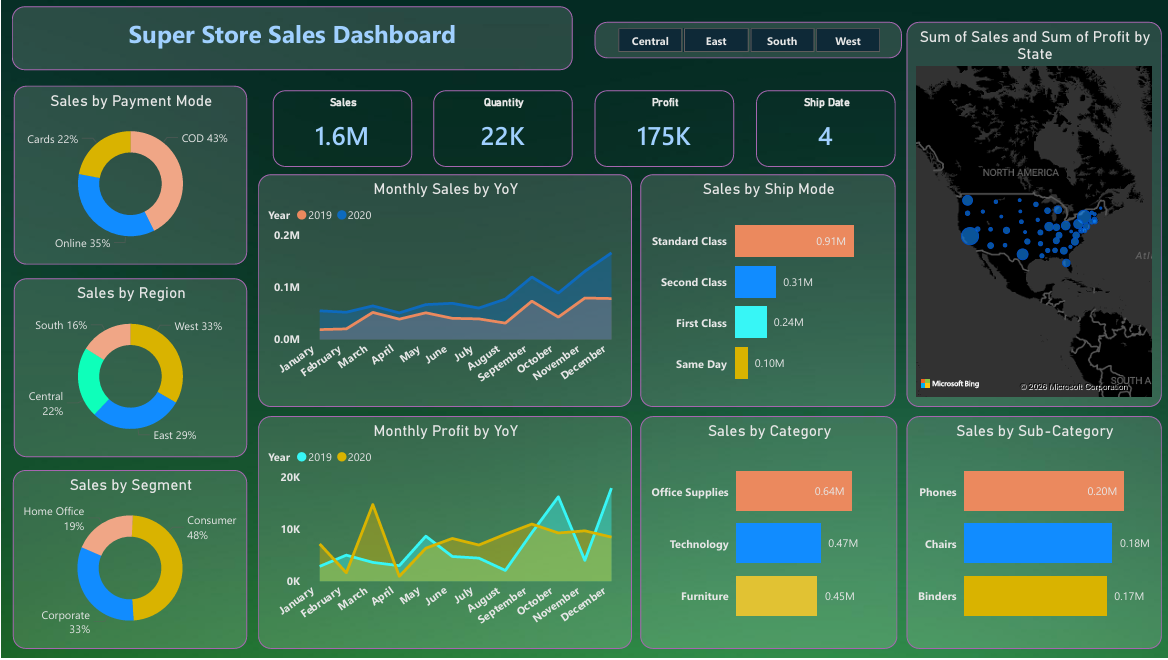

The page's visual inventory and layout, read from the dashboard file:
{"tool":"powerbi","page":{"name":"Page 1","canvas":[1280,720],"ordinal":0},"visuals":[{"type":"clusteredBarChart","title":"Sales by Category","fields":{"Category":["SuperStore_Sales_Dataset (2).Category"],"Y":["Sum(SuperStore_Sales_Dataset (2).Sales)"]},"box":[699.7,456,282.3,254.6],"z":0},{"type":"clusteredBarChart","title":"Sales by Ship Mode","fields":{"Y":["Sum(SuperStore_Sales_Dataset (2).Sales)"],"Category":["SuperStore_Sales_Dataset (2).Ship Mode"]},"box":[700,191.4,280,254.3],"z":1000},{"type":"clusteredBarChart","title":"Sales by Sub-Category","fields":{"Category":["SuperStore_Sales_Dataset (2).Sub-Category"],"Y":["Sum(SuperStore_Sales_Dataset (2).Sales)"]},"box":[991.7,456,279.9,254.6],"z":2000},{"type":"areaChart","title":"Monthly Sales by YoY","fields":{"Y":["Sum(SuperStore_Sales_Dataset (2).Sales)"],"Category":["SuperStore_Sales_Dataset (2).Order Date.Variation.Date Hierarchy.Month","SuperStore_Sales_Dataset (2).Order Date.Variation.Date Hierarchy.Day"],"Series":["SuperStore_Sales_Dataset (2).Order Date.Variation.Date Hierarchy.Year"]},"box":[281.4,191.4,410,254.3],"z":3000},{"type":"areaChart","title":"Monthly Profit by YoY","fields":{"Category":["SuperStore_Sales_Dataset (2).Order Date.Variation.Date Hierarchy.Month","SuperStore_Sales_Dataset (2).Order Date.Variation.Date Hierarchy.Day"],"Series":["SuperStore_Sales_Dataset (2).Order Date.Variation.Date Hierarchy.Year"],"Y":["Sum(SuperStore_Sales_Dataset (2).Profit)"]},"box":[281.1,456,410.2,254.6],"z":4000},{"type":"map","fields":{"Category":["SuperStore_Sales_Dataset (2).State"],"Size":["Sum(SuperStore_Sales_Dataset (2).Sales)"]},"box":[991.7,24.1,279.9,422.3],"z":5000},{"type":"donutChart","title":"Sales by Segment","fields":{"Category":["SuperStore_Sales_Dataset (2).Segment"],"Y":["Sum(SuperStore_Sales_Dataset (2).Sales)"]},"box":[12.1,515.2,257,195.4],"z":6000},{"type":"donutChart","title":"Sales by Payment Mode","fields":{"Category":["SuperStore_Sales_Dataset (2).Payment Mode"],"Y":["Sum(SuperStore_Sales_Dataset (2).Sales)"]},"box":[13.3,94.1,255.8,195.4],"z":7000},{"type":"donutChart","title":"Sales by Region","fields":{"Category":["SuperStore_Sales_Dataset (2).Region"],"Y":["Sum(SuperStore_Sales_Dataset (2).Sales)"]},"box":[13.3,305.2,255.8,195.4],"z":8000},{"type":"slicer","fields":{"Values":["SuperStore_Sales_Dataset (2).Region"]},"box":[650.3,24.1,336.6,39.8],"z":9000},{"type":"textbox","box":[10.9,7.2,615.3,70],"z":10000},{"type":"cardVisual","title":"Sales","fields":{"Data":["Sum(SuperStore_Sales_Dataset (2).Sales)"]},"box":[297.1,98.6,152.9,84.3],"z":11000},{"type":"cardVisual","title":"Quantity","fields":{"Data":["Sum(SuperStore_Sales_Dataset (2).Quantity)"]},"box":[472.9,98.6,152.9,84.3],"z":12000},{"type":"cardVisual","title":"Profit","fields":{"Data":["Sum(SuperStore_Sales_Dataset (2).Profit)"]},"box":[650,98.6,152.9,84.3],"z":13000},{"type":"cardVisual","title":"Ship Date","fields":{"Data":["Avg(SuperStore_Sales_Dataset (2).AvgDelivery)"]},"box":[827.1,98.6,152.9,84.3],"z":14000}]}

Visuals, with their boxes in screenshot pixels (x1, y1, x2, y2), scaled from the page's 1280x720 canvas onto the 1168x660 screenshot:
"Sales by Category" clusteredBarChart: rect(638, 418, 896, 651)
"Sales by Ship Mode" clusteredBarChart: rect(639, 175, 894, 409)
"Sales by Sub-Category" clusteredBarChart: rect(905, 418, 1160, 651)
"Monthly Sales by YoY" areaChart: rect(257, 175, 631, 409)
"Monthly Profit by YoY" areaChart: rect(257, 418, 631, 651)
map - SuperStore_Sales_Dataset (2).State x Sum(SuperStore_Sales_Dataset (2).Sales): rect(905, 22, 1160, 409)
"Sales by Segment" donutChart: rect(11, 472, 246, 651)
"Sales by Payment Mode" donutChart: rect(12, 86, 246, 265)
"Sales by Region" donutChart: rect(12, 280, 246, 459)
slicer - SuperStore_Sales_Dataset (2).Region: rect(593, 22, 901, 59)
textbox: rect(10, 7, 571, 71)
"Sales" cardVisual: rect(271, 90, 411, 168)
"Quantity" cardVisual: rect(432, 90, 571, 168)
"Profit" cardVisual: rect(593, 90, 733, 168)
"Ship Date" cardVisual: rect(755, 90, 894, 168)
